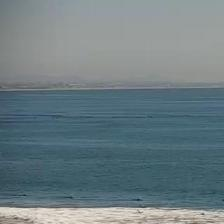surfer: (133, 197, 142, 201), (65, 196, 74, 199), (137, 210, 143, 214), (24, 194, 31, 197), (142, 205, 147, 208), (201, 213, 205, 216), (222, 199, 223, 202)
